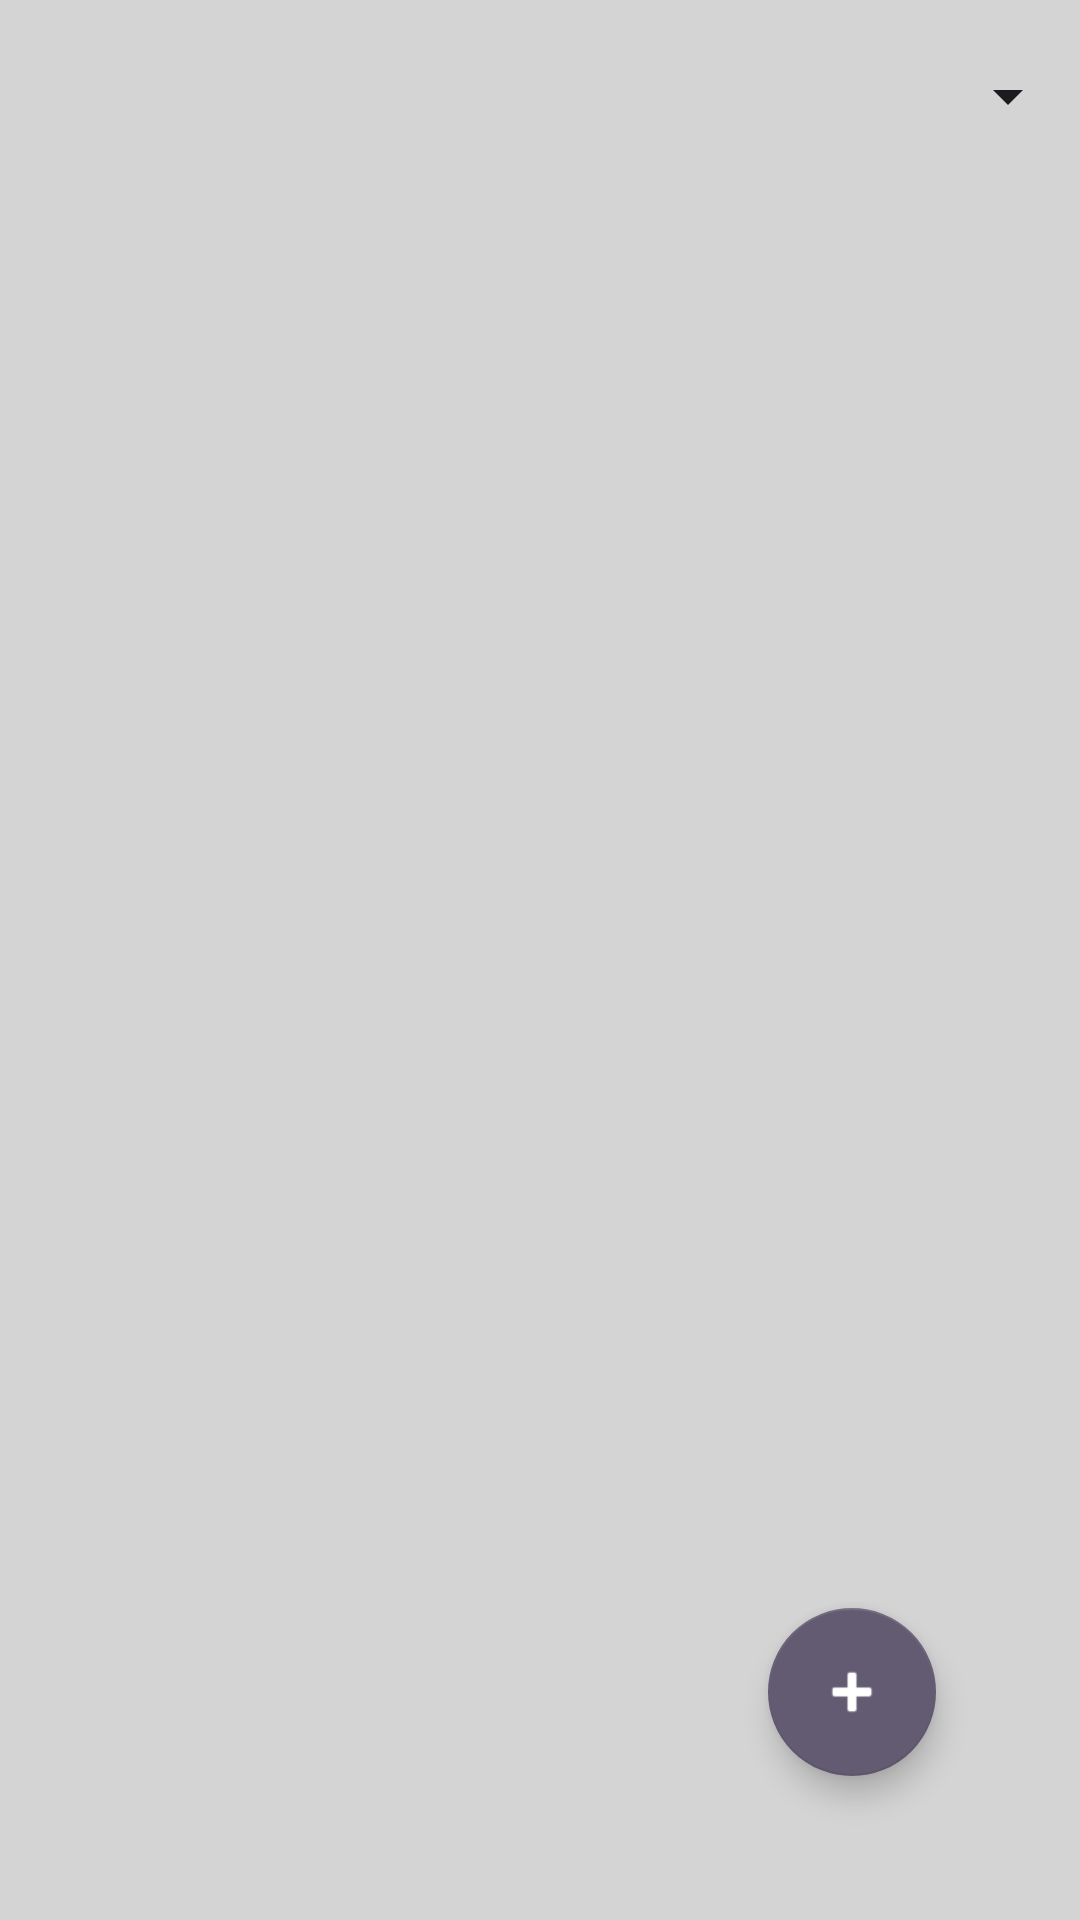

Point at icon controls on the screen. Image size 1080x1920, points as point (x, y).
add: point (852, 1692)
